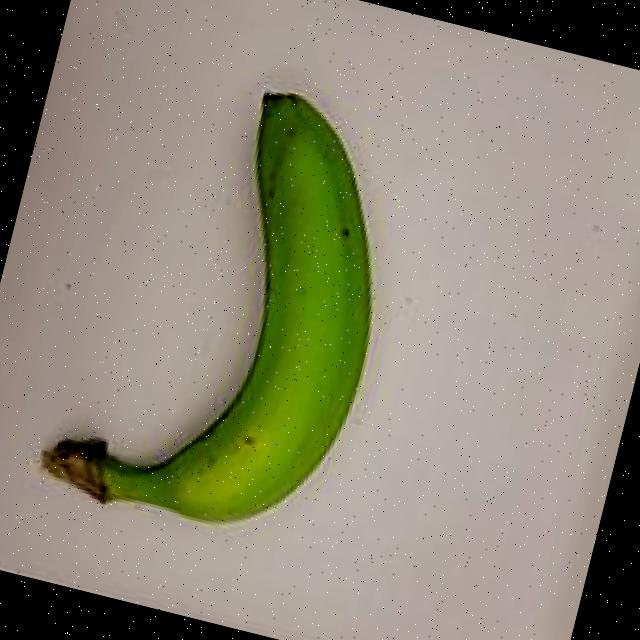Unripe: (25, 38, 448, 580)
